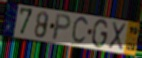7: (19, 6, 34, 37)
8: (34, 11, 50, 40)
C: (70, 16, 90, 47)
G: (90, 19, 109, 50)
P: (51, 13, 73, 42)
X: (108, 21, 128, 52)
